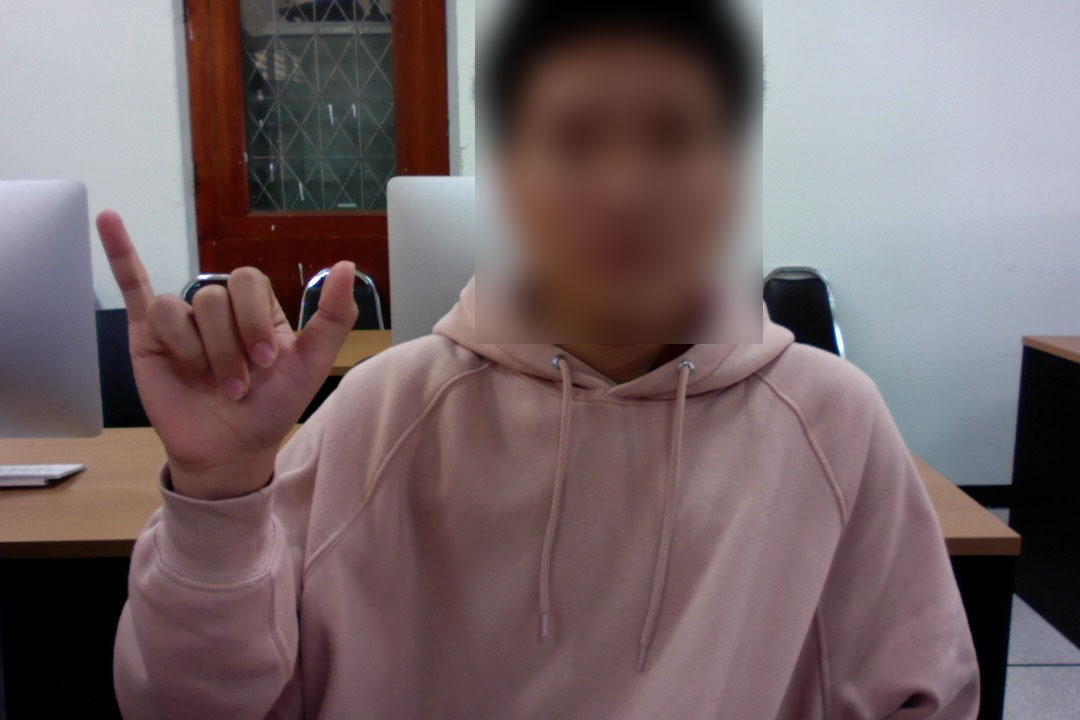yor: (89, 197, 367, 487)
